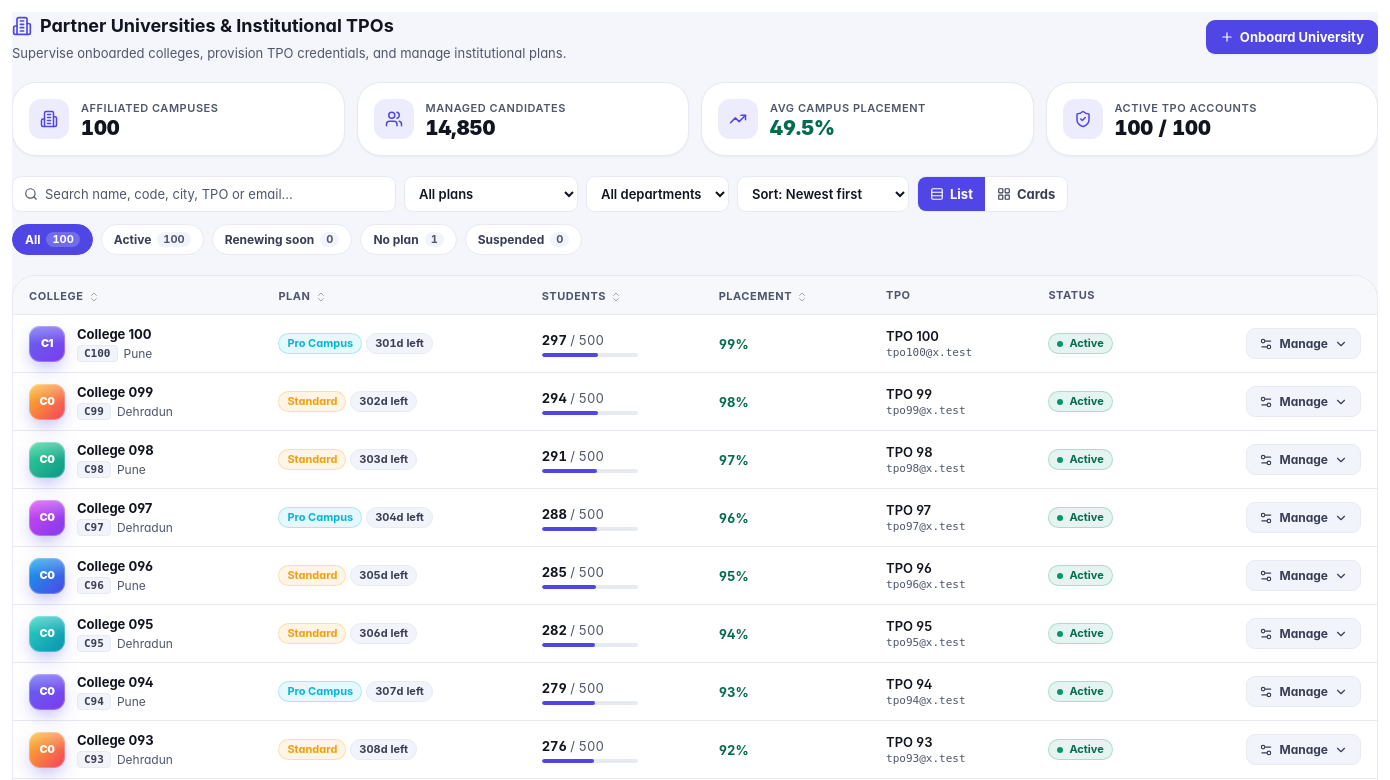
Test: a hundred colleges › switches to compact cards, pages them the same way, and remembers the choice
What coordinates should you click on to do the following:
click the button "Cards"
I would click on:
 (1026, 194)
Its box is [985,177,1067,211].
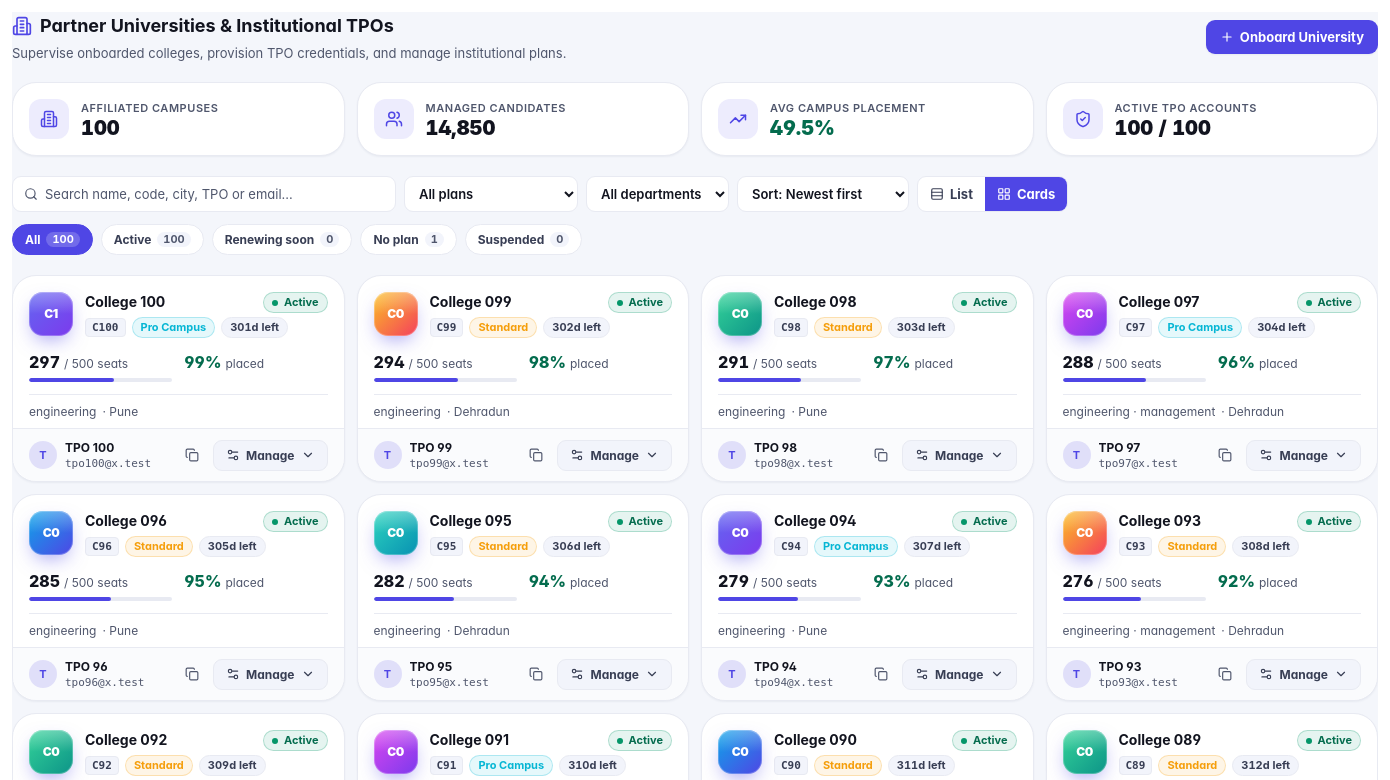
Now the number of elements with test id "college-card" is 24
